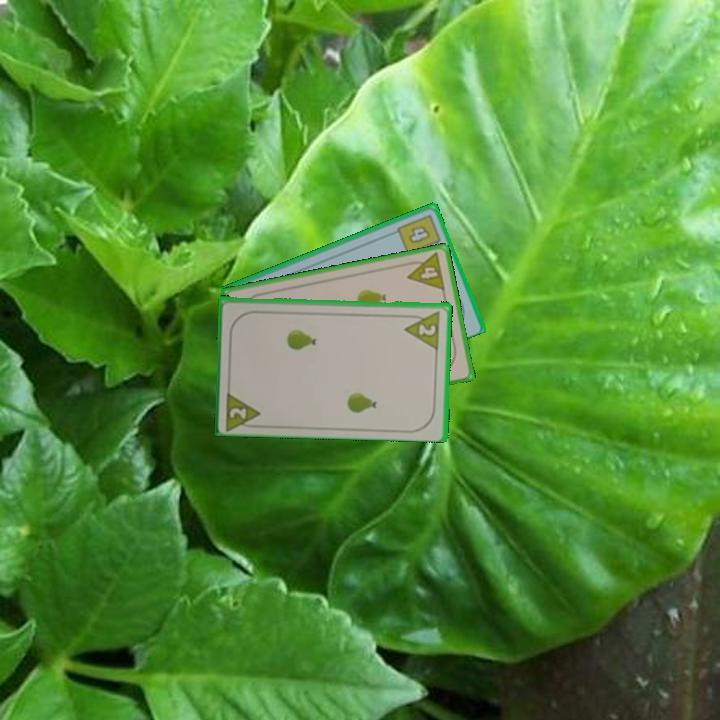2p: (222, 386, 264, 431), (402, 307, 443, 351)
4b: (393, 211, 444, 257)
4p: (402, 249, 448, 293)
